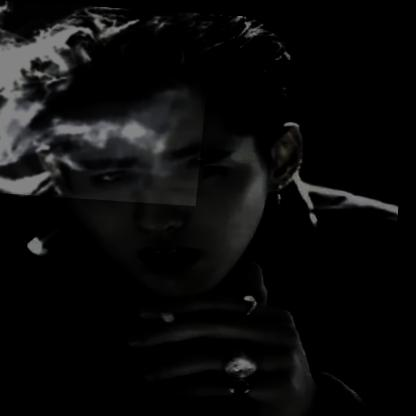smoke: (0, 0, 214, 203)
